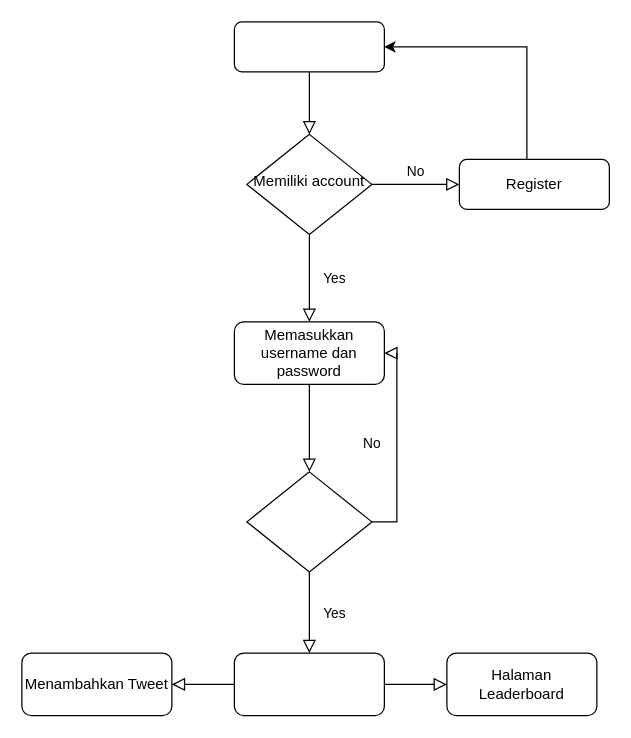
Image size: 631x738. Some labels were removed from this diagram. The shapes that lost their labels are listed below. From the top down, each one's box as (x1, y1, x2, y2) in pixels, then its label:
(233, 21, 384, 72): Mengakses login page
(246, 471, 372, 572): kredibilitas valid?
(233, 652, 384, 716): Halaman Home
